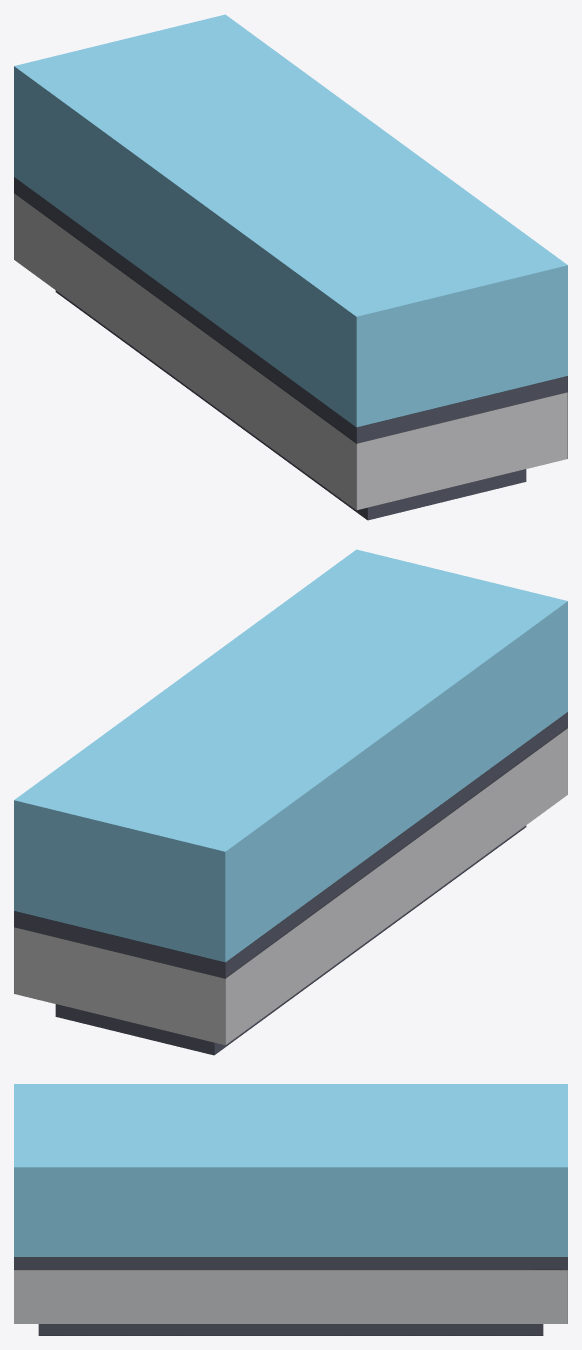
File: Stand_01.FBX
3 views of the same model, one above another, from view 1: azimuth 30°, elevation 25°; view 2: azimuth 150°, elevation 25°; view 3: azimuth 270°, elevation 25° (orthographic). The views are drawn at different scales.
Visible parts, largest first — view 1: Stand_01; view 2: Stand_01; view 3: Stand_01.
Boxes of the visible parts, x1,y1,x2,y2 form: Stand_01: (14, 14, 567, 520); Stand_01: (14, 549, 567, 1055); Stand_01: (14, 1084, 567, 1335).
Size of the model in its own units: 2 by 2 by 5.61.
2 materials, 1 textured.
